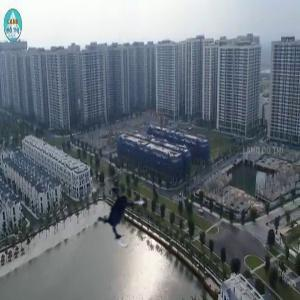drone: (83, 174, 162, 253)
